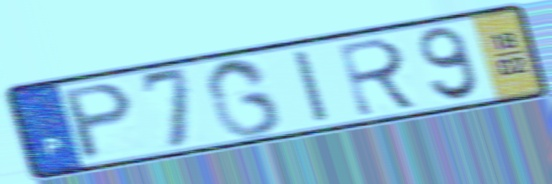7: (135, 65, 194, 152)
9: (416, 24, 484, 104)
G: (202, 55, 286, 139)
I: (288, 46, 335, 127)
P: (59, 79, 136, 165)
R: (334, 34, 424, 120)
